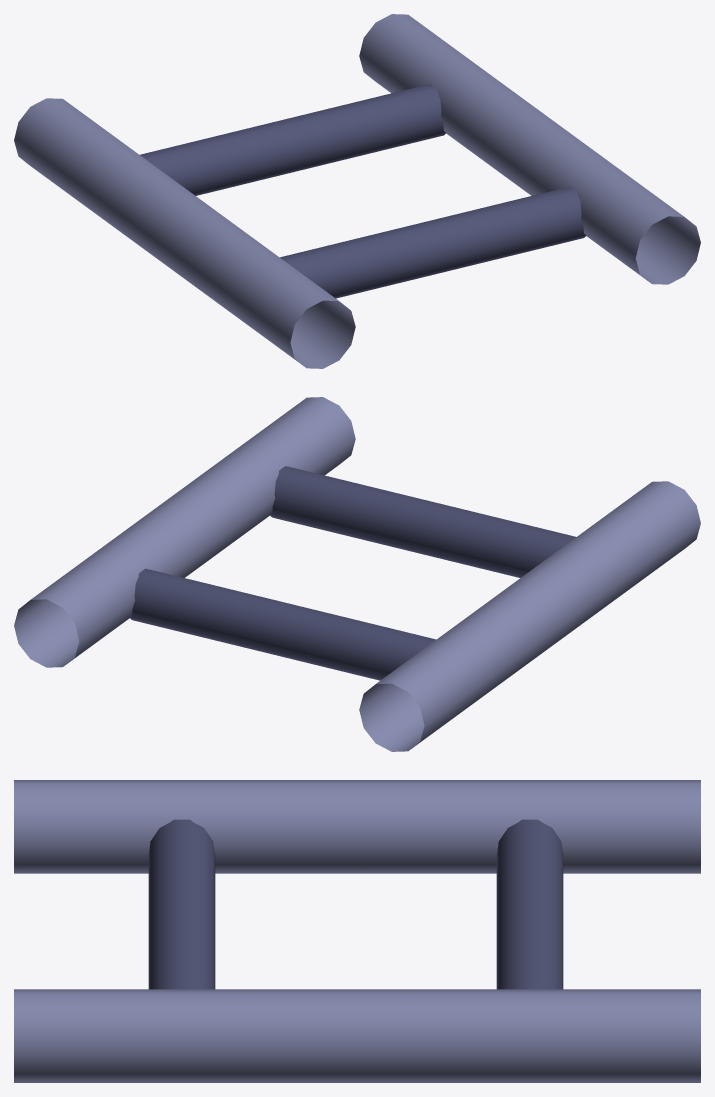
File: Rail_6.fbx
The picture shows the model from 3 angles, top to bottom: view 1: azimuth 30°, elevation 25°; view 2: azimuth 150°, elevation 25°; view 3: azimuth 270°, elevation 25°; orthographic projection. The views are drawn at different scales.
Parts seen in each view (by area): view 1: Rail_6; view 2: Rail_6; view 3: Rail_6.
Part boxes in pixels (x1=…): Rail_6: x1=14, y1=14, x2=700, y2=368; Rail_6: x1=14, y1=397, x2=700, y2=751; Rail_6: x1=14, y1=780, x2=700, y2=1082.
Bounding box in the file's own units: 274 × 43.6 × 319.
